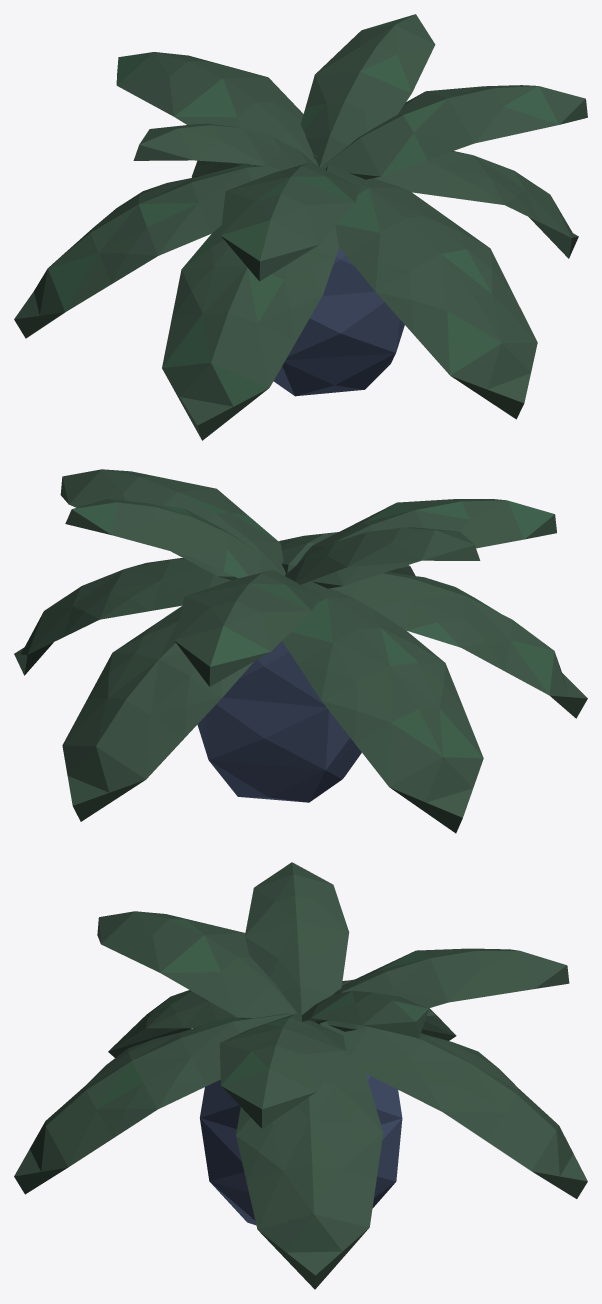
File: bedroom_plant.fbx
3 views of the same model, one above another, from view 1: azimuth 30°, elevation 25°; view 2: azimuth 150°, elevation 25°; view 3: azimuth 270°, elevation 25° (orthographic). The views are drawn at different scales.
Visible parts, largest first — view 1: bedroom_plant; view 2: bedroom_plant; view 3: bedroom_plant.
Part boxes in pixels (x1,y1,x2,y2): bedroom_plant: (14, 14, 587, 440); bedroom_plant: (14, 469, 587, 833); bedroom_plant: (14, 862, 587, 1289).
Bounding box in the file's own units: 74.97 × 39.93 × 76.49.
